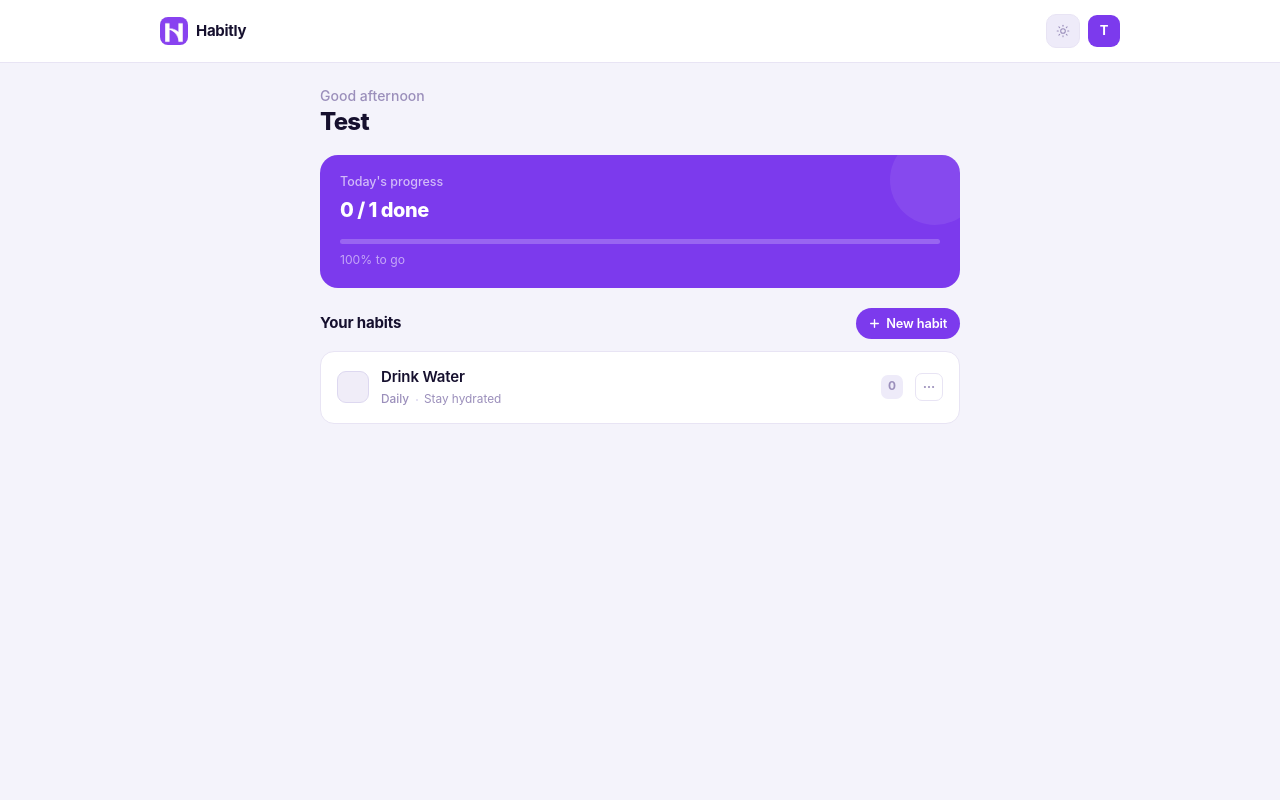
Test: habit form › edits an existing habit and preserves immutable fields
Expected: the element with test id "habit-card-drink-water" is shown, [320,351,960,424]
Click the button named "Habit options" at [929, 387], box [915,373,943,401]
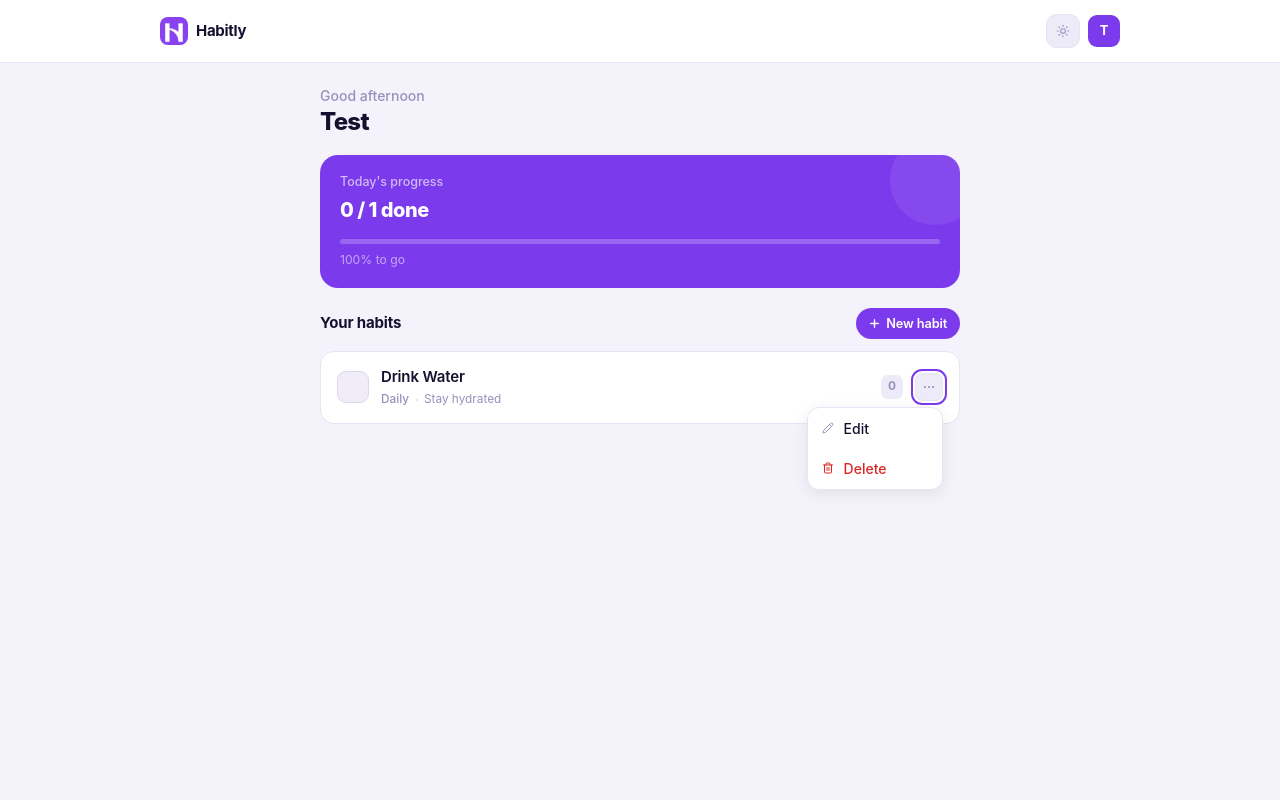
Click the button with test id "habit-edit-drink-water" at [875, 428], box [808,408,942,448]
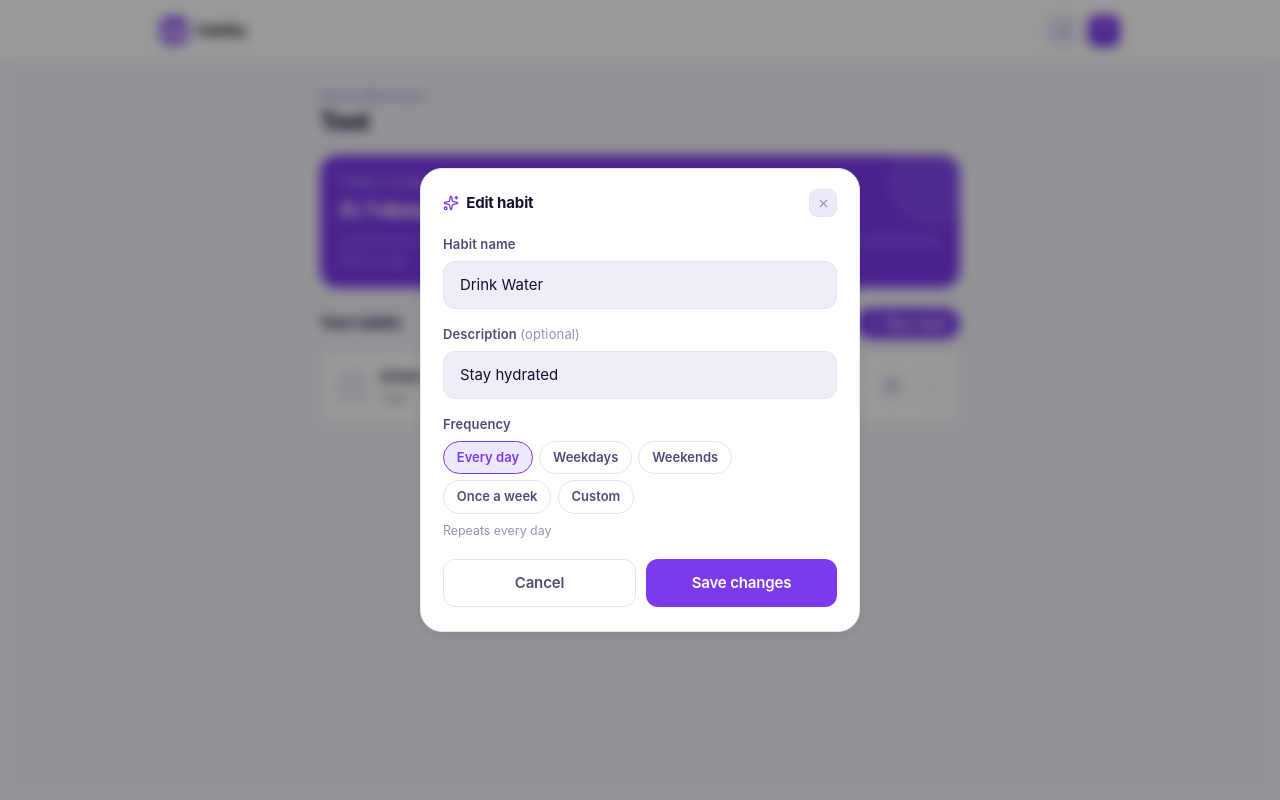
Expected: the element with test id "habit-form" is shown, [420,168,860,632]
Replace the text in the field with test id "habit-name-input" with "Drink More Water" at [640, 285], box [443,260,837,309]
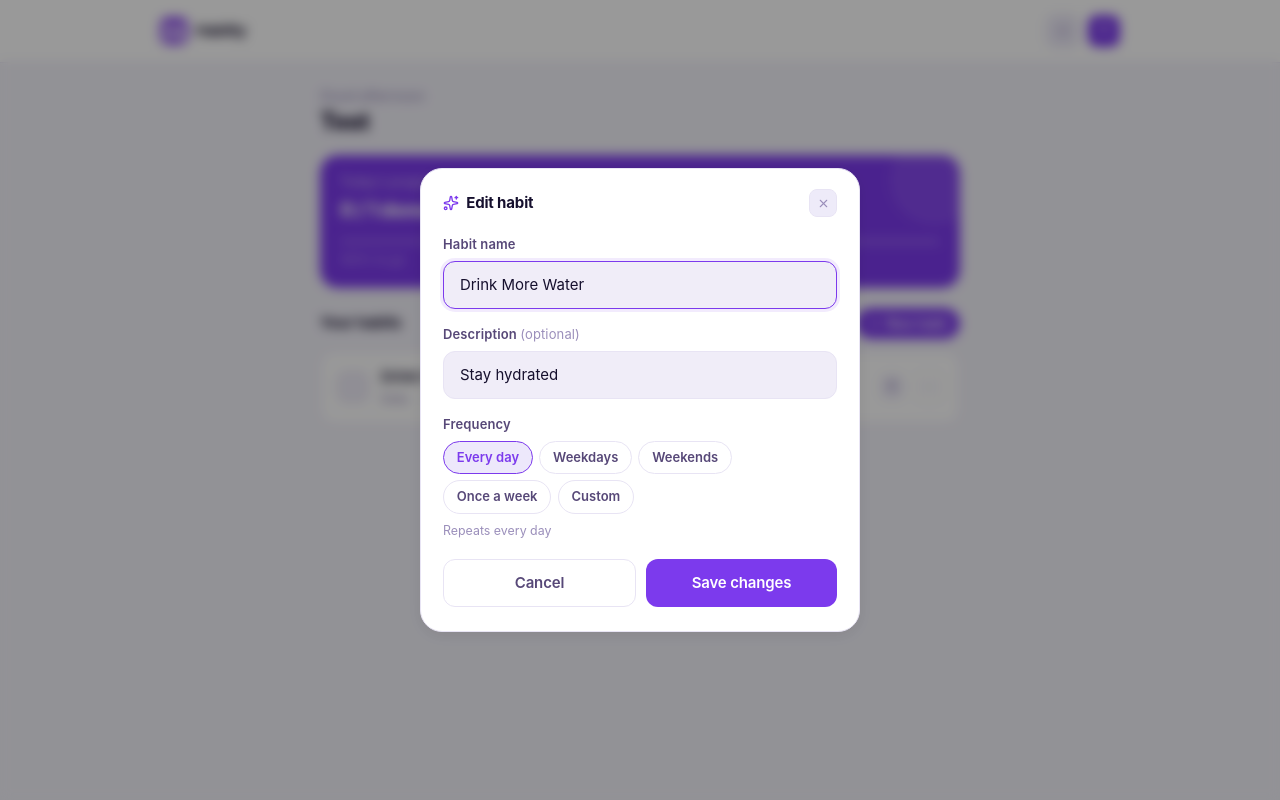
Click the button with test id "habit-save-button" at [742, 583], box [646,558,837,607]
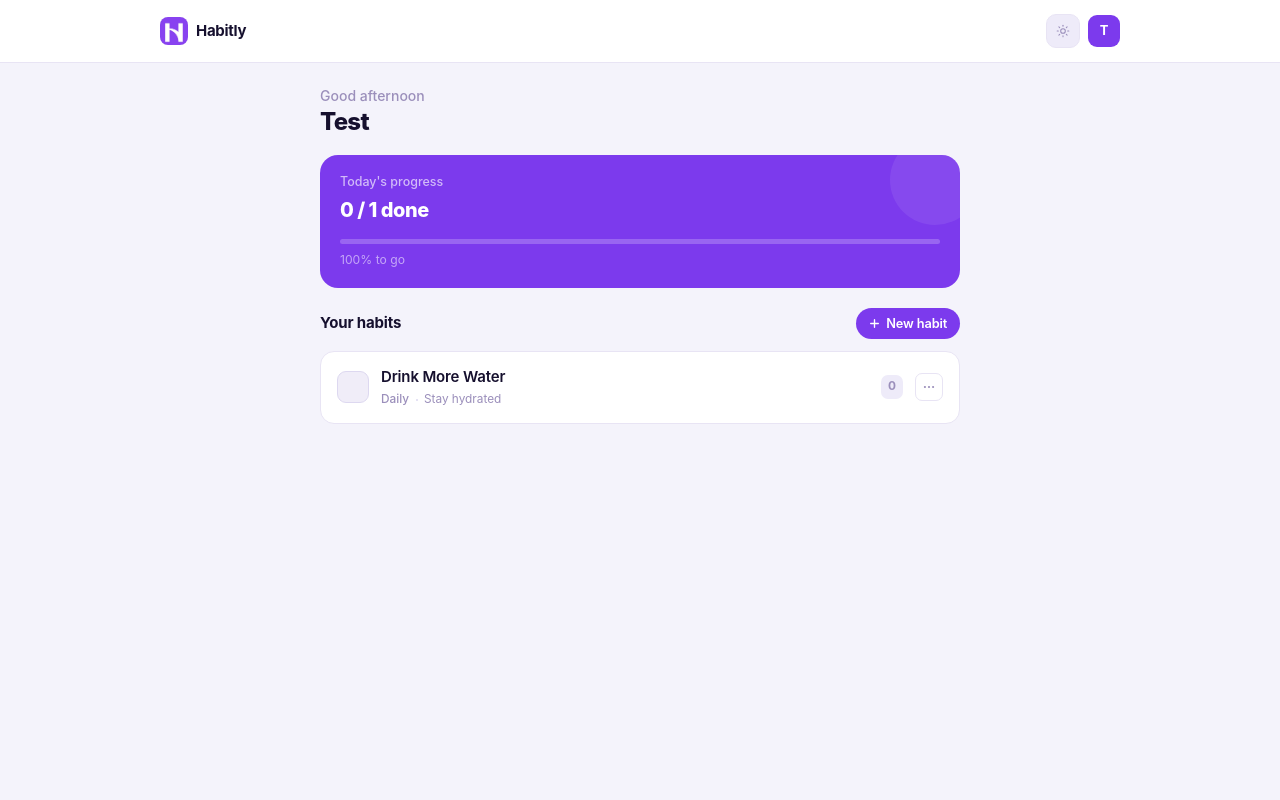
Expected: the element with test id "habit-card-drink-more-water" is shown, [320,351,960,424]
